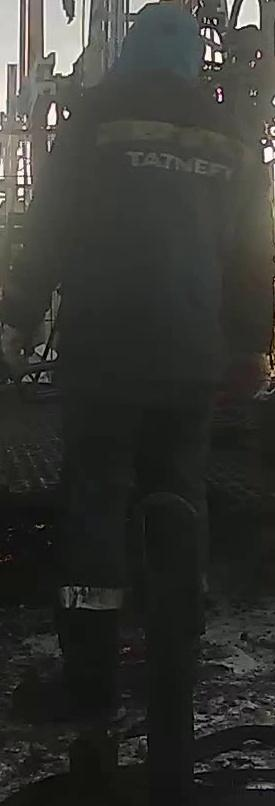gloves: (0, 318, 29, 387), (244, 344, 275, 403)
vest: (49, 88, 249, 402)
